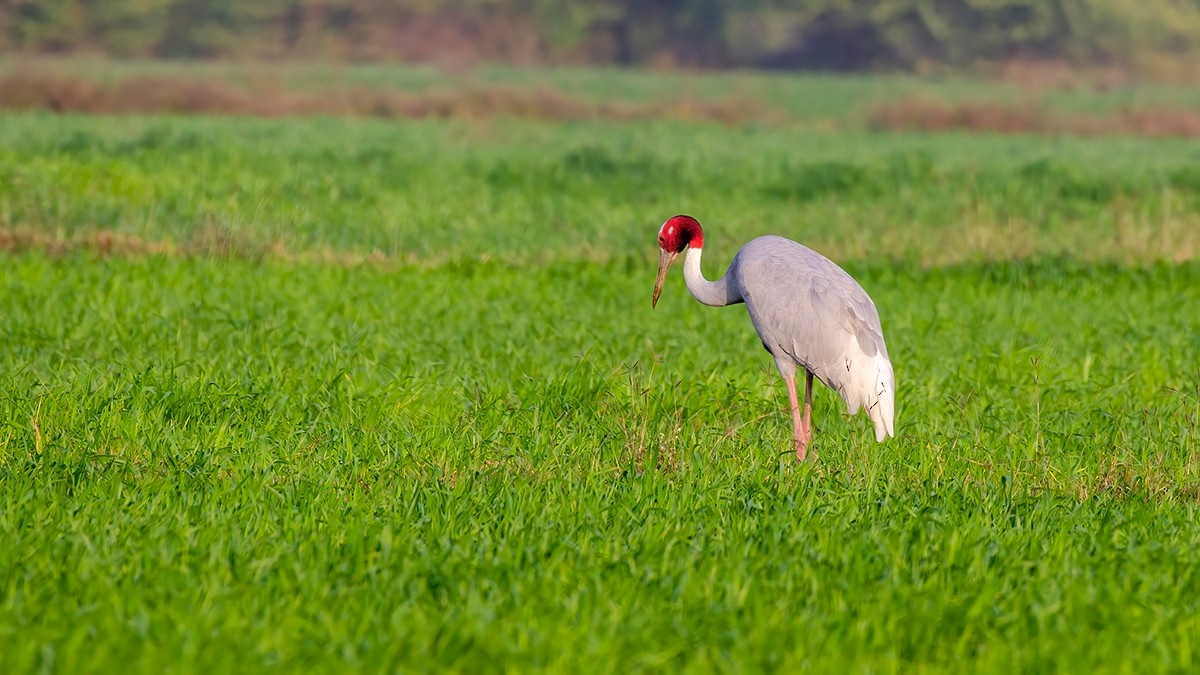crane: (646, 202, 910, 459)
